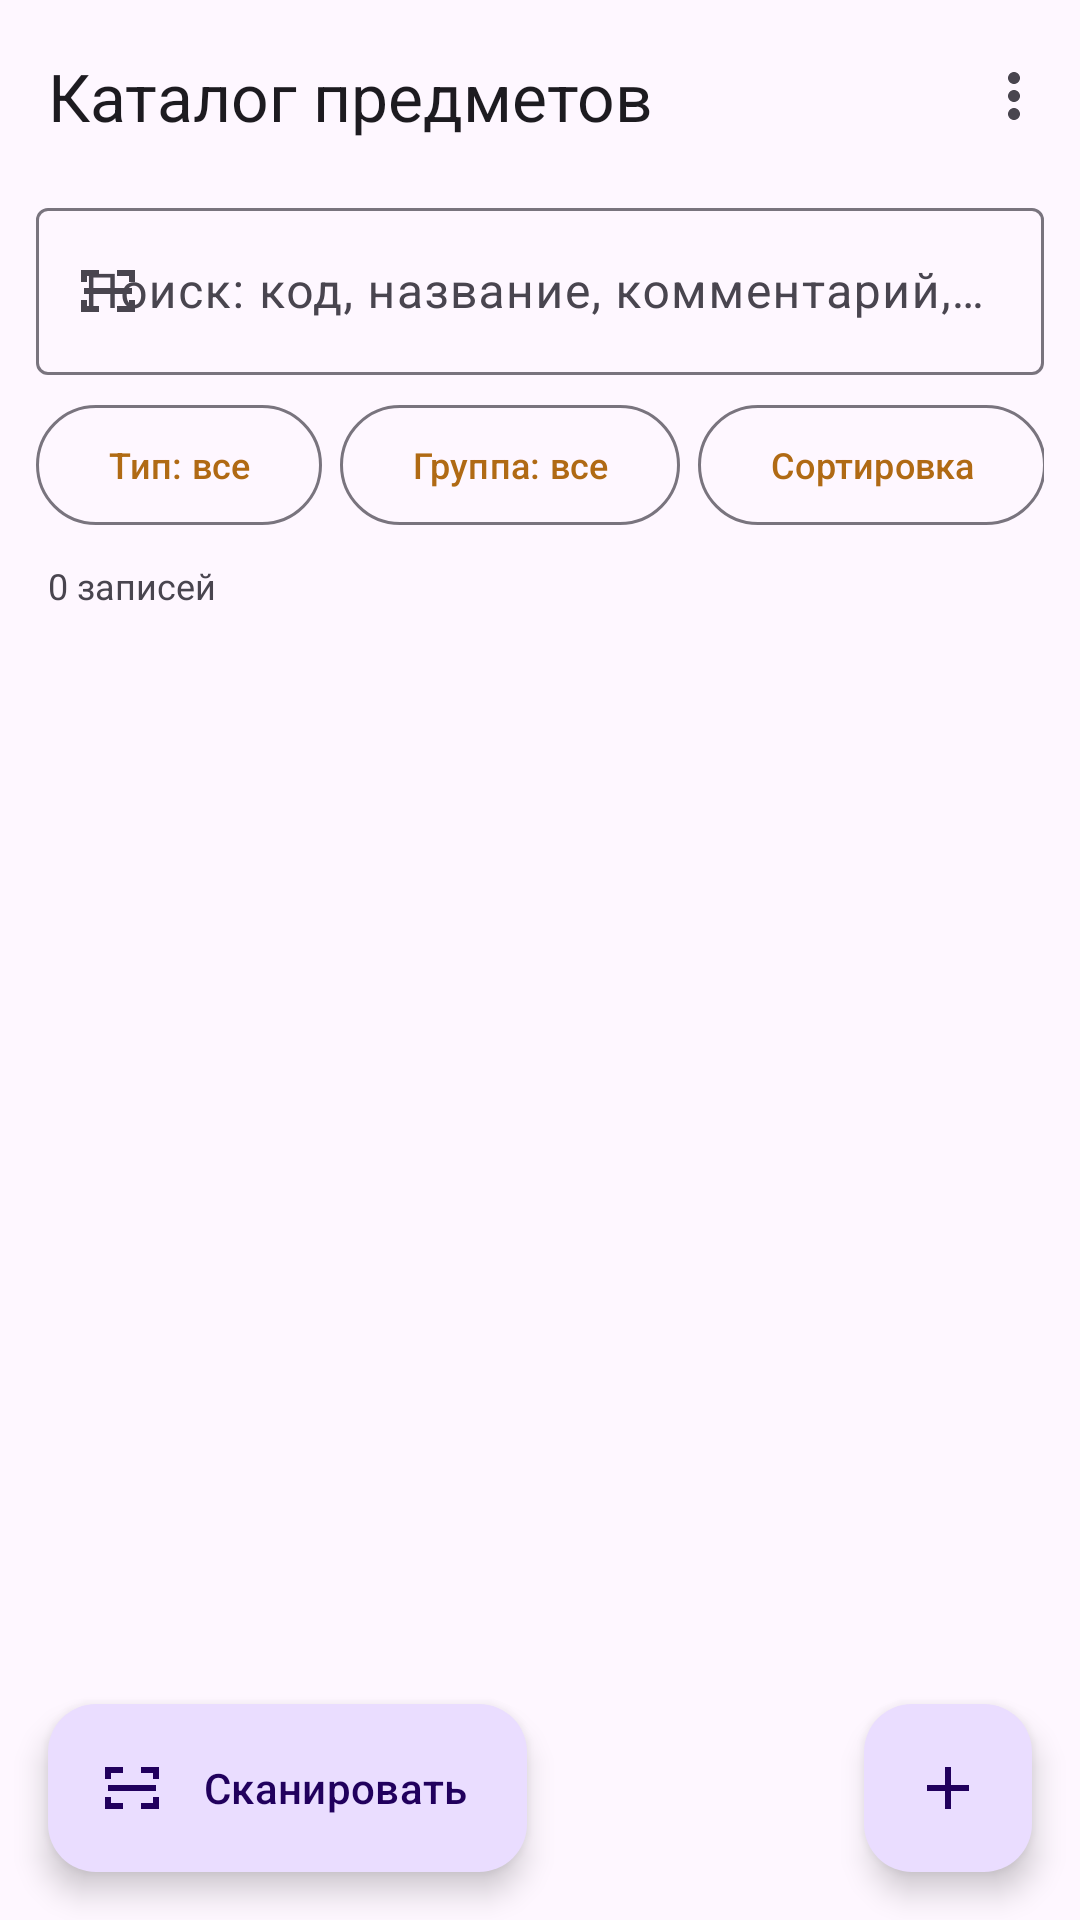

Screen size 1080x1920. Icon name, then its box in pixels as (x1, y1, x2, y2):
Добавить: (864, 1704, 1032, 1872)
